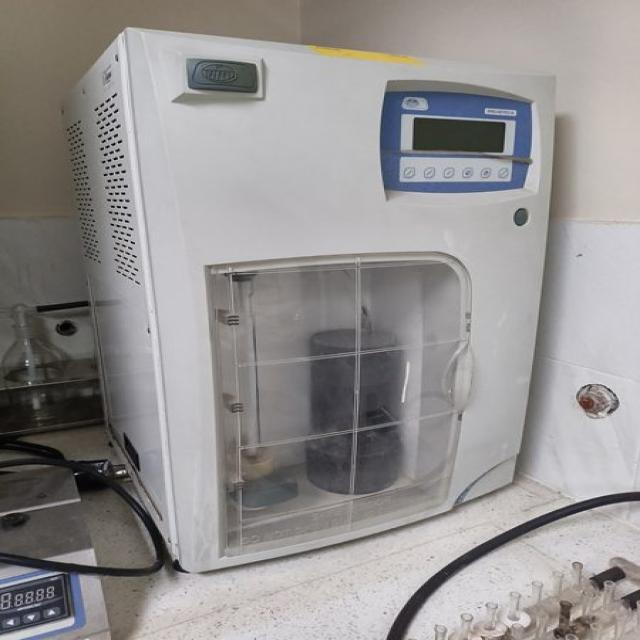Unidad de Destilacion Kjeldahl: (62, 25, 558, 573)
